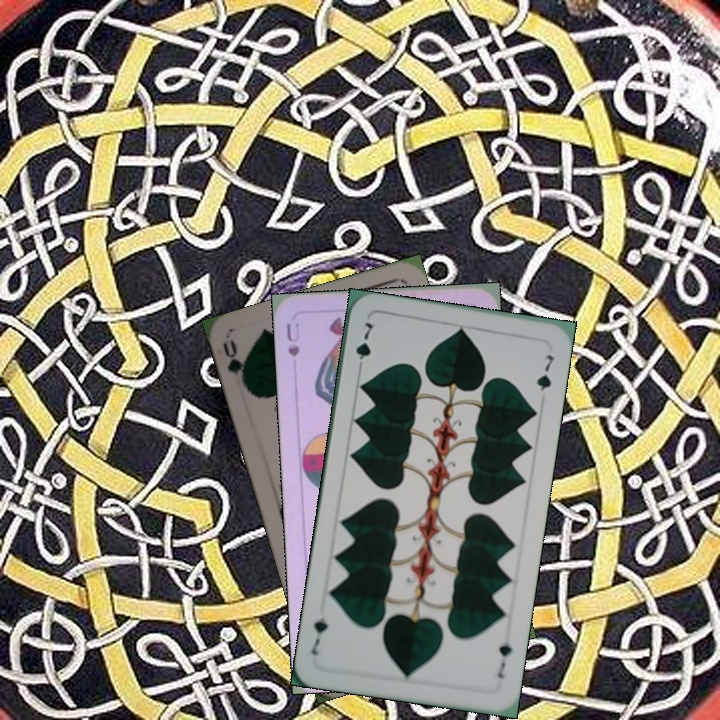G7: (352, 318, 378, 375), (493, 631, 515, 681)
GO: (219, 337, 253, 394)
SU: (282, 319, 302, 359)
